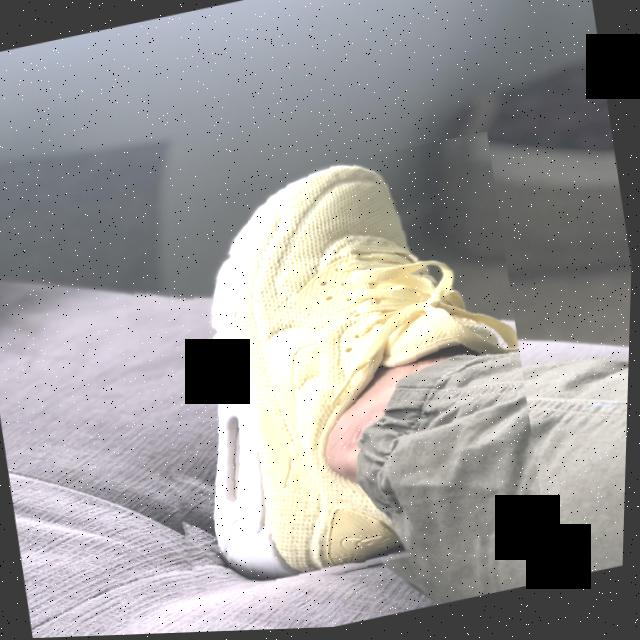shoe: (109, 133, 560, 617)
